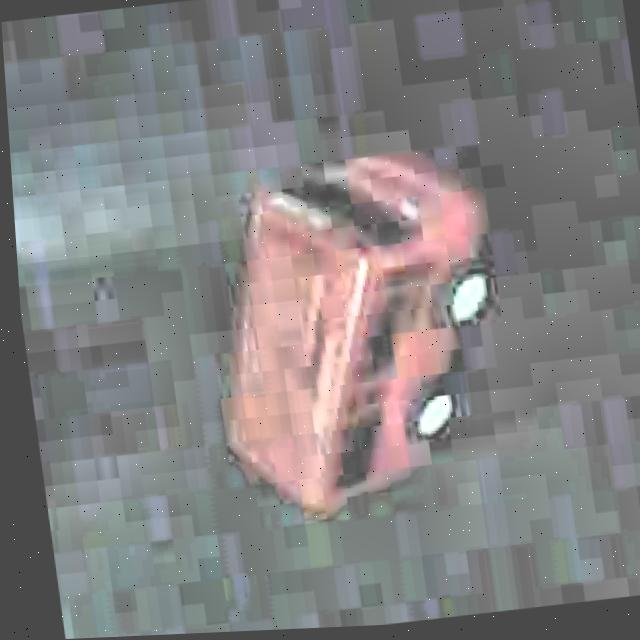bus: (174, 127, 543, 534)
